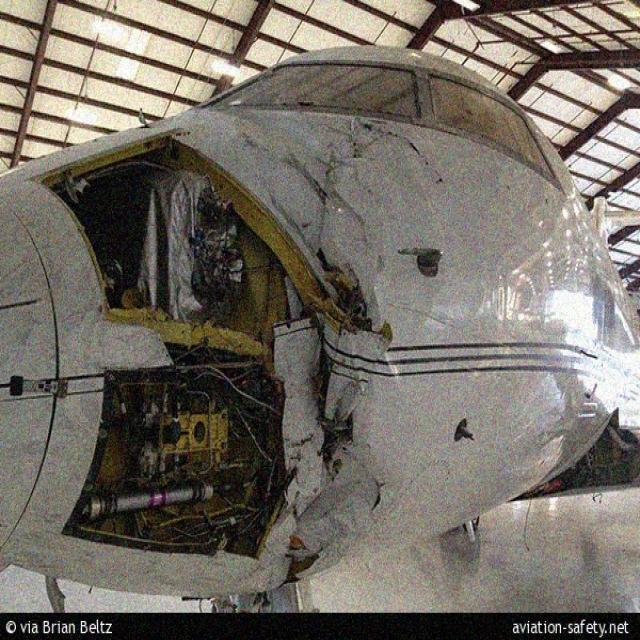crack: (359, 126, 444, 185), (343, 451, 390, 509)
dent: (365, 170, 446, 247), (242, 113, 319, 160), (385, 261, 430, 333)
